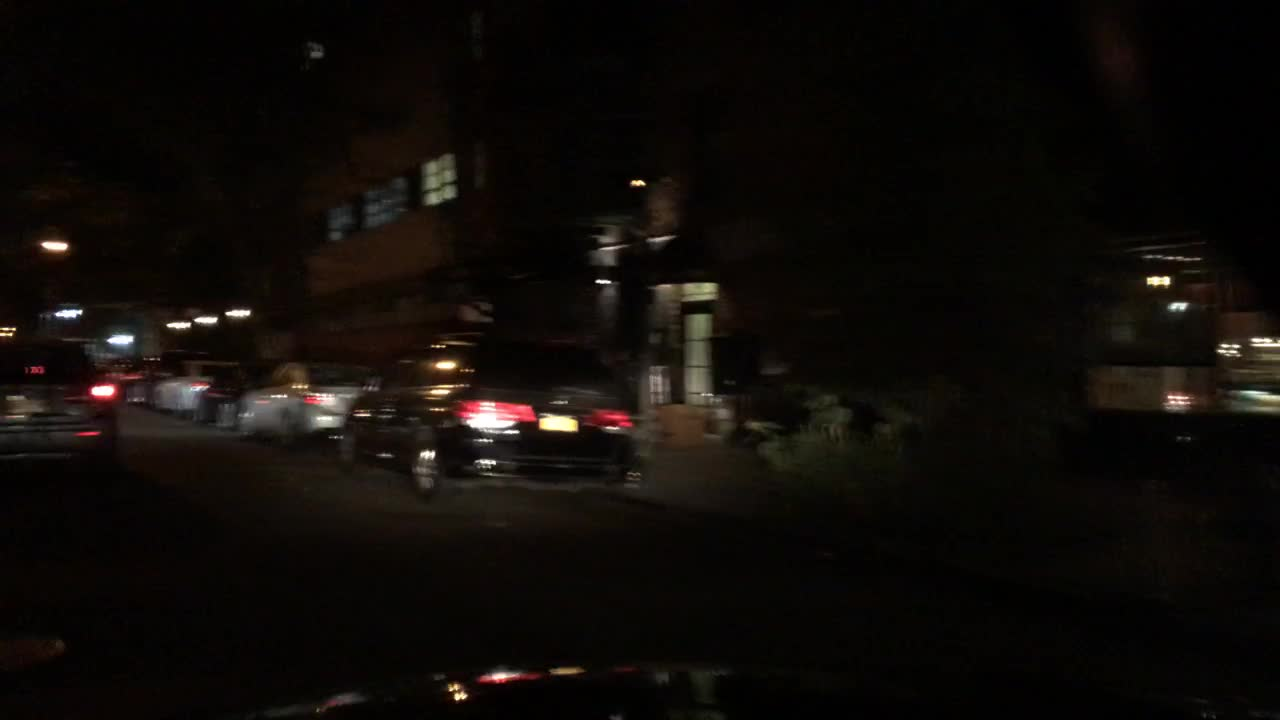car: (340, 332, 643, 496), (1, 331, 115, 476), (205, 359, 381, 446), (200, 355, 279, 428), (148, 357, 239, 416), (126, 347, 206, 409), (102, 355, 137, 401)
